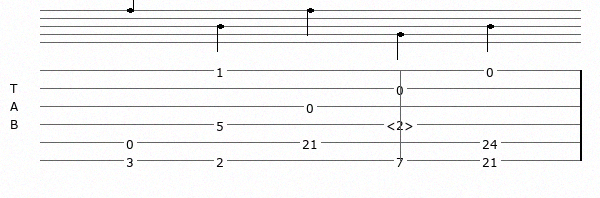0: (126, 136, 138, 149), (306, 100, 318, 113), (396, 82, 408, 95), (486, 64, 498, 77)
1: (216, 64, 228, 77)
2: (216, 154, 228, 167)
21: (302, 136, 322, 149), (482, 154, 502, 167)
24: (482, 136, 502, 149)
3: (126, 154, 138, 167)
5: (216, 118, 228, 131)
7: (396, 154, 408, 167)
harmonic: (386, 117, 418, 131)
